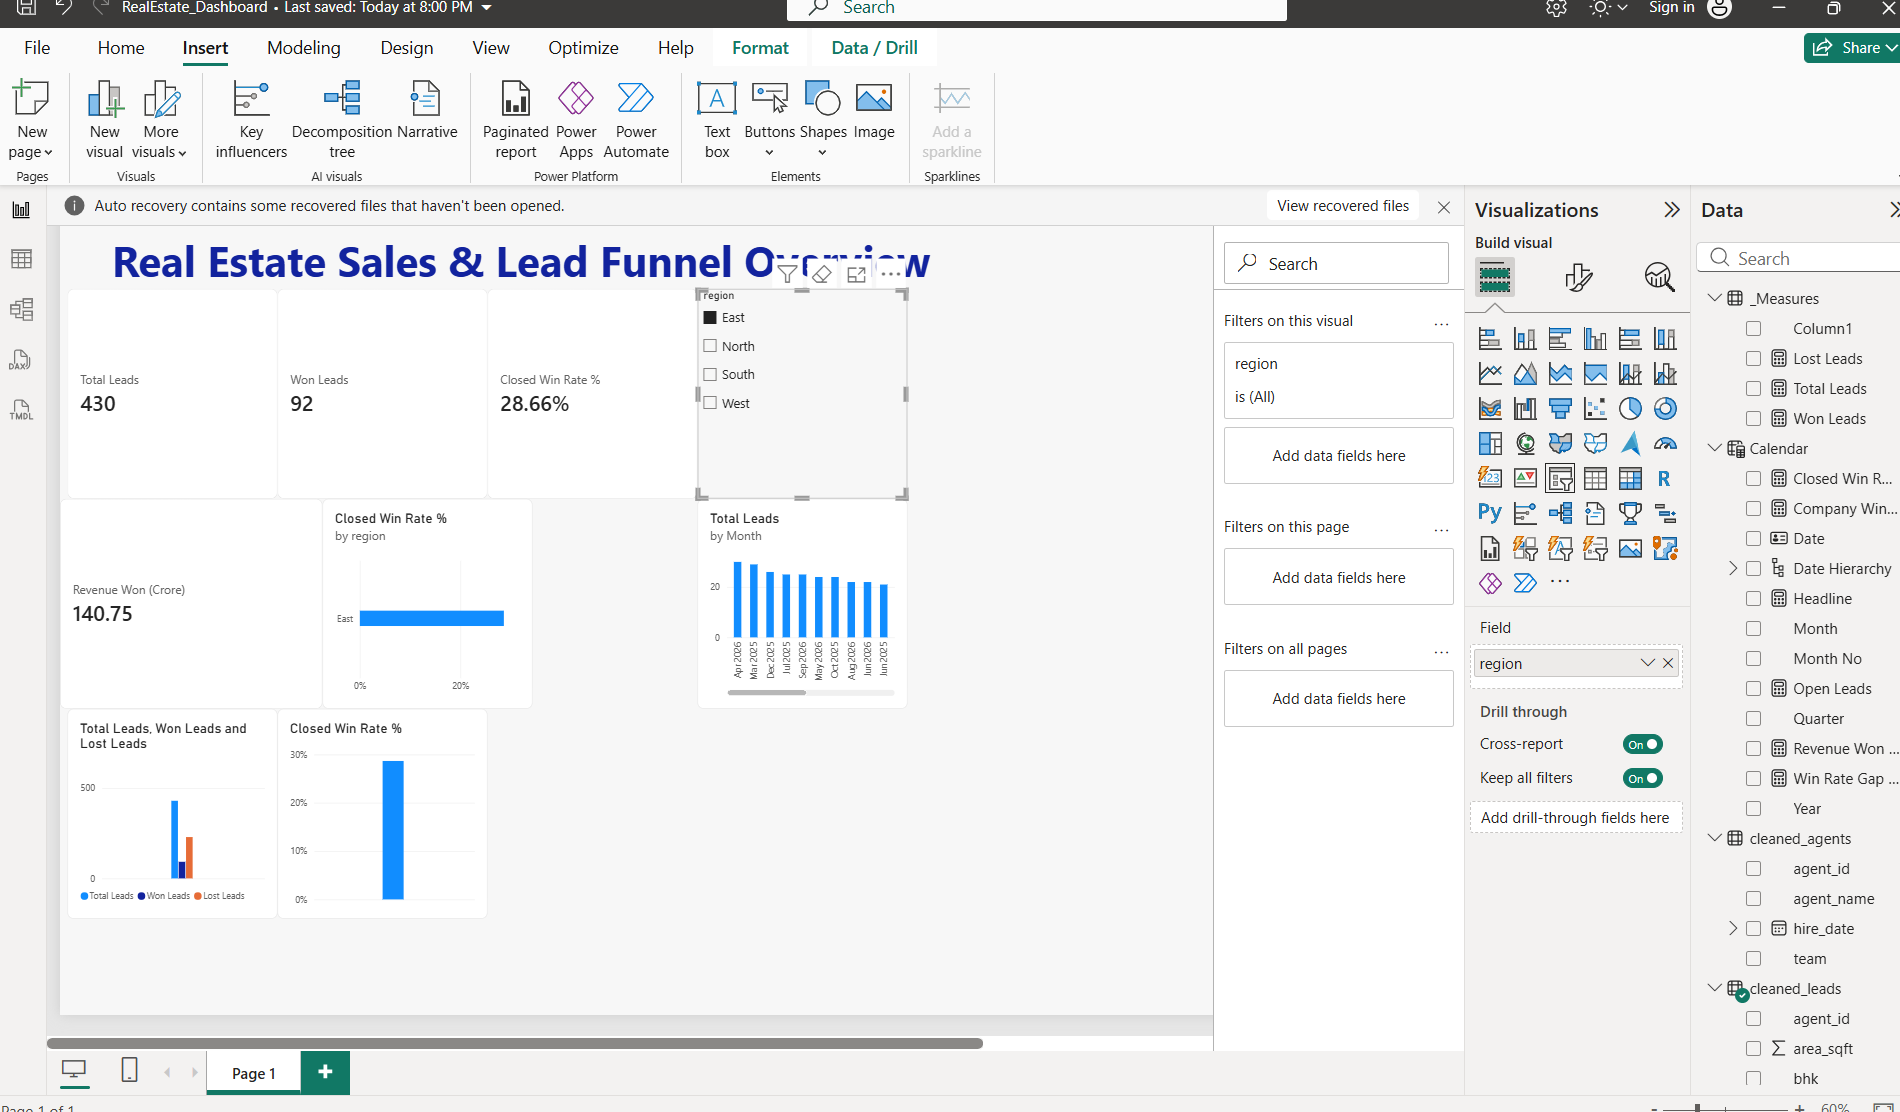

This screenshot's page, from the dashboard's own definition file:
{"tool":"powerbi","page":{"name":"Page 1","canvas":[1920,1080],"ordinal":0},"visuals":[{"type":"cardVisual","fields":{"Data":["_Measures.Total Leads"]},"box":[10,111.7,280,280],"z":0},{"type":"cardVisual","fields":{"Data":["_Measures.Won Leads"]},"box":[290,111.7,280,280],"z":1000},{"type":"clusteredColumnChart","fields":{"Category":["Calendar.Month"],"Y":["_Measures.Total Leads"]},"box":[850,391.7,280,280],"z":2000},{"type":"slicer","fields":{"Values":["cleaned_leads.region"]},"box":[850,111.7,280,280],"z":3000},{"type":"cardVisual","fields":{"Data":["Calendar.Closed Win Rate %"]},"box":[570,111.7,280,280],"z":4000},{"type":"cardVisual","fields":{"Data":["Calendar.Revenue Won (Crore)"]},"box":[0,391.7,350,280],"z":5000},{"type":"clusteredColumnChart","fields":{"Y":["Calendar.Closed Win Rate %"]},"box":[290,671.7,280,280],"z":6000},{"type":"clusteredColumnChart","fields":{"Y":["_Measures.Total Leads","_Measures.Won Leads","_Measures.Lost Leads"]},"box":[10,671.7,280,280],"z":7000},{"type":"clusteredBarChart","fields":{"Category":["cleaned_leads.region"],"Y":["Calendar.Closed Win Rate %"]},"box":[350,391.7,280,280],"z":7001},{"type":"textbox","box":[10,35,1210,91.7],"z":7002}]}

Visuals, with their boxes on the page's 1920x1080 design canvas (x1, y1, x2, y2). These are canvas units, not pixel positions in the 1900x1112 screenshot, which may show the page scaled, cropped or inside an application window:
cardVisual - _Measures.Total Leads: 10/112/290/392
cardVisual - _Measures.Won Leads: 290/112/570/392
clusteredColumnChart - Calendar.Month x _Measures.Total Leads: 850/392/1130/672
slicer - cleaned_leads.region: 850/112/1130/392
cardVisual - Calendar.Closed Win Rate %: 570/112/850/392
cardVisual - Calendar.Revenue Won (Crore): 0/392/350/672
clusteredColumnChart - Calendar.Closed Win Rate %: 290/672/570/952
clusteredColumnChart - _Measures.Total Leads x _Measures.Won Leads: 10/672/290/952
clusteredBarChart - cleaned_leads.region x Calendar.Closed Win Rate %: 350/392/630/672
textbox: 10/35/1220/127
